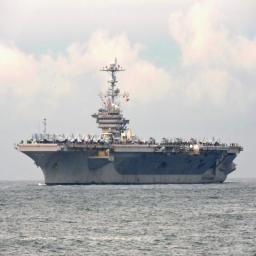Portanaves: (13, 58, 246, 191)
